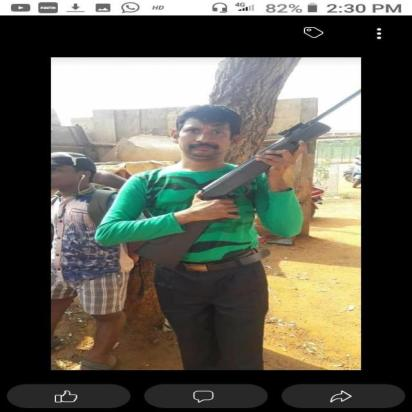Gun: (129, 87, 362, 273)
